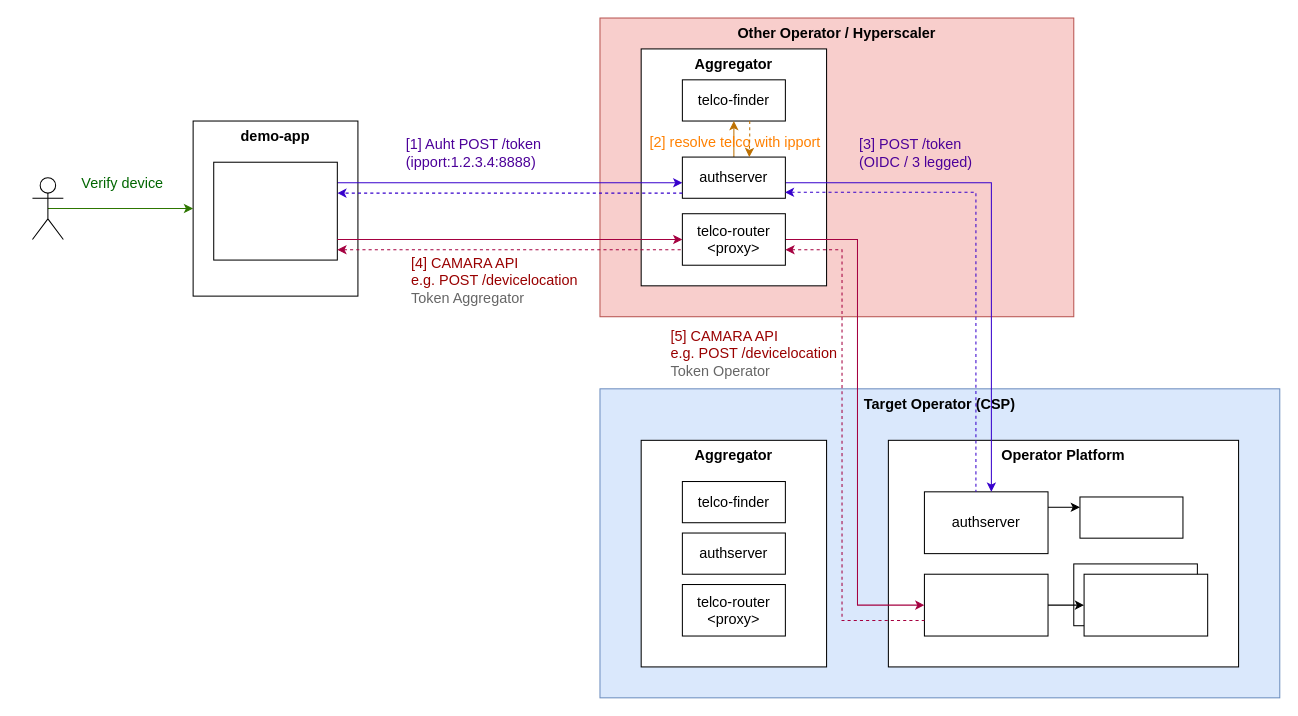
The diagram is 1298 pixels wide and 716 high, and some of its shapes have lost their labels. The centre of each missing label's shape, as x and y in pixels:
apigateway: the point at 985,604
camara-apis: the point at 1145,604
camara-sdk: the point at 275,210
End User: the point at 47,208
user-consents: the point at 1131,517
